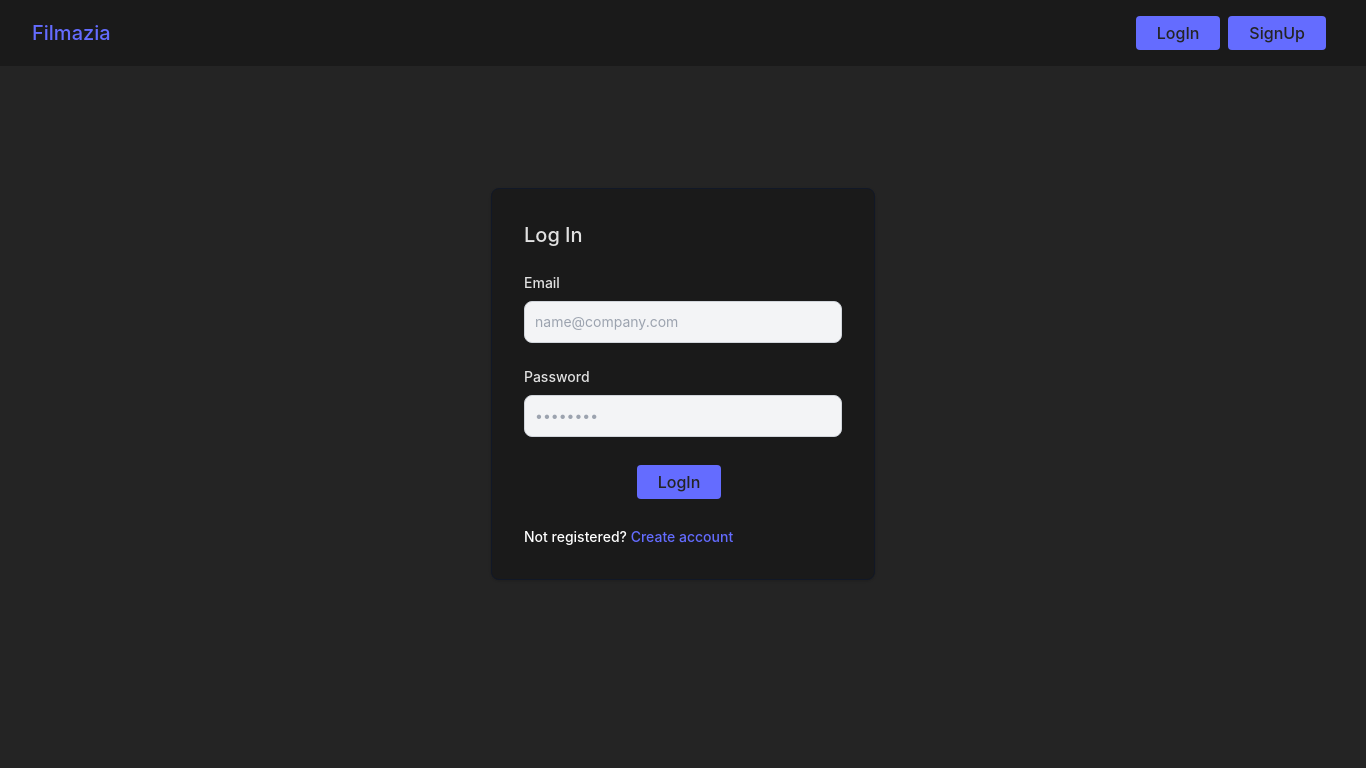
Test: LogIn Tests › Validation error for missing password
Type "test@example.com" into the field with placeholder "name@company.com" at (683, 322), box [524,301,842,343]
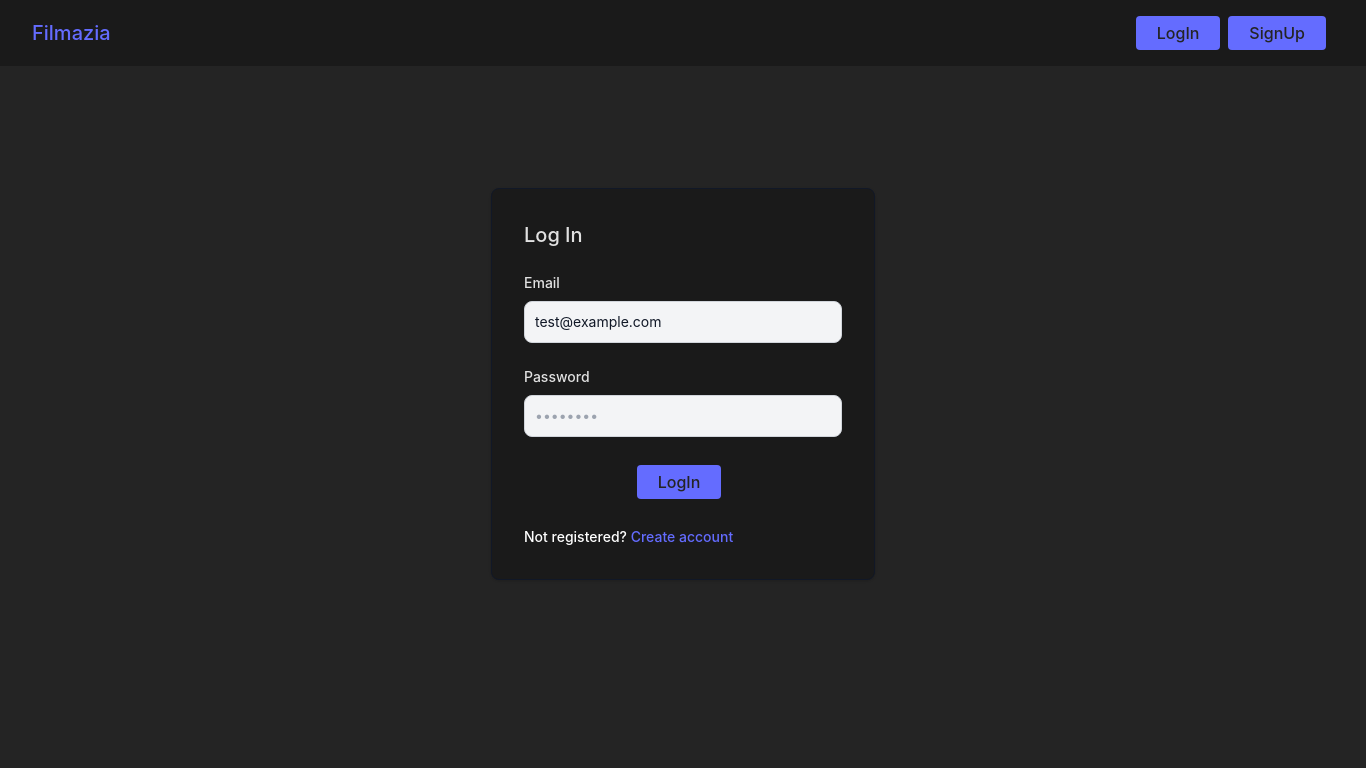
Click the button "LogIn" below "Password" at (679, 482), box [637,465,721,499]
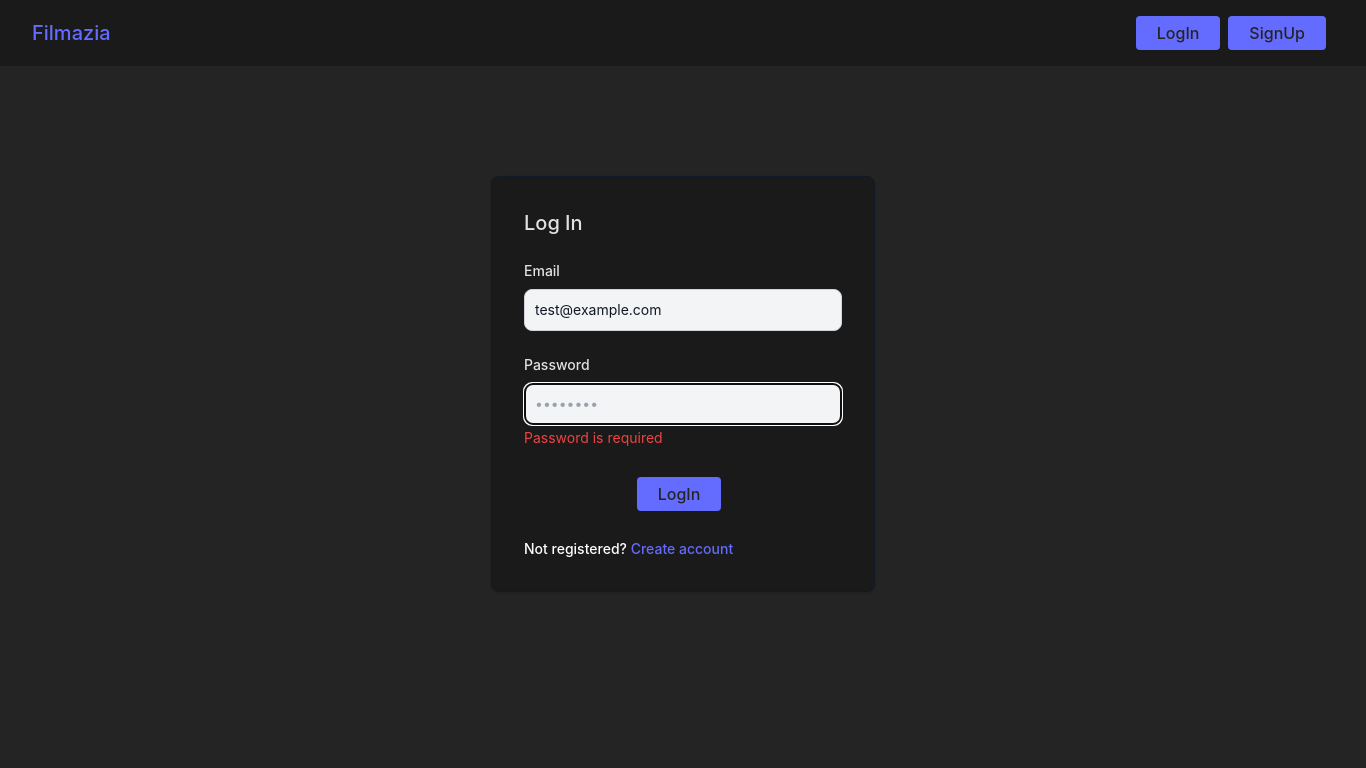
Result: the text "Password is required" is shown at [524,429,663,446]
